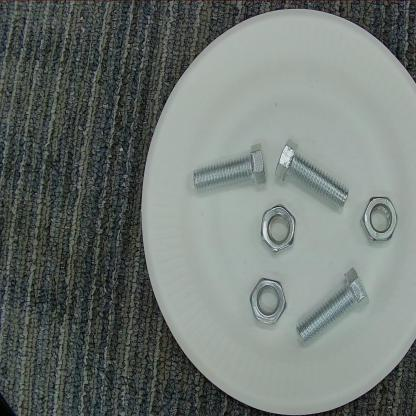FOD: (288, 262, 375, 352), (273, 131, 353, 218), (186, 134, 270, 198), (355, 187, 404, 252), (250, 199, 299, 258), (246, 273, 290, 333)
